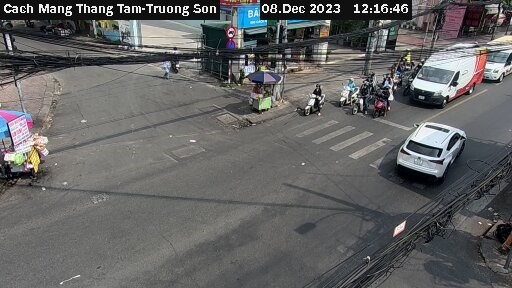car: (395, 118, 468, 179), (410, 42, 481, 98), (481, 33, 512, 77)
motorbike: (297, 85, 328, 117), (332, 78, 358, 108), (349, 91, 372, 119), (380, 73, 403, 100)
